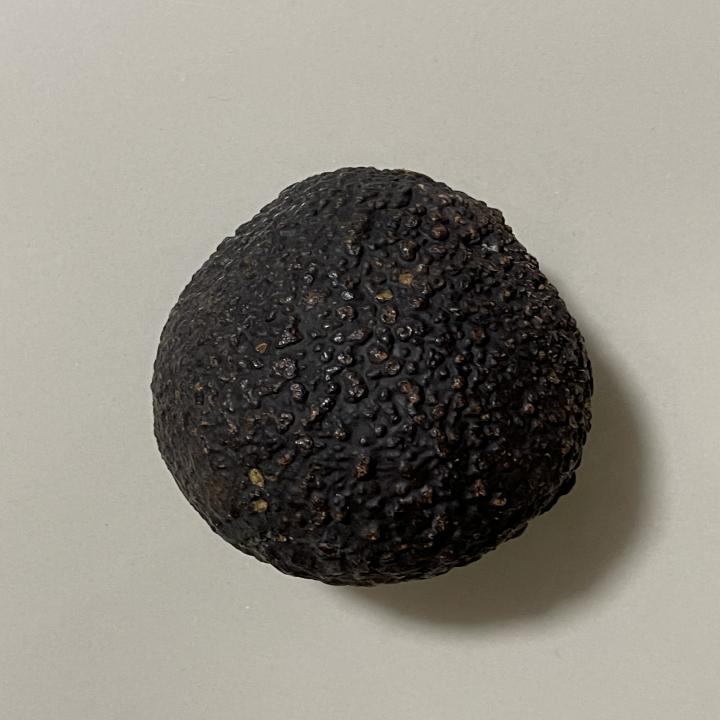Level3: (136, 161, 606, 594)
